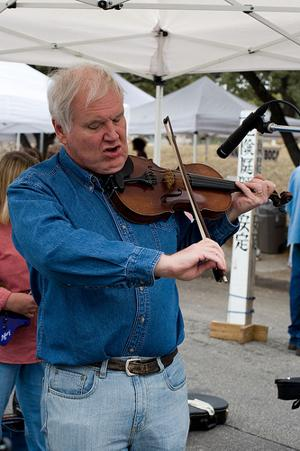person: (7, 64, 280, 450)
